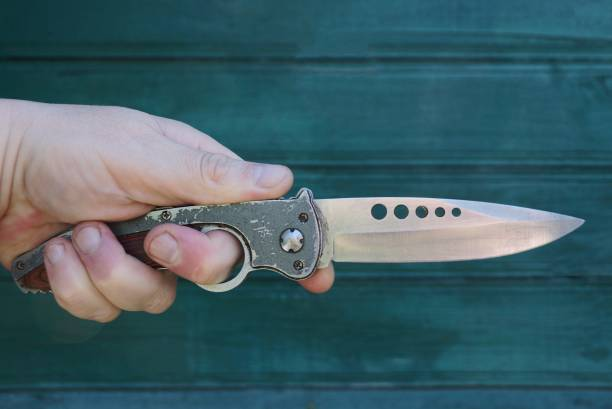knife: (8, 185, 589, 298)
